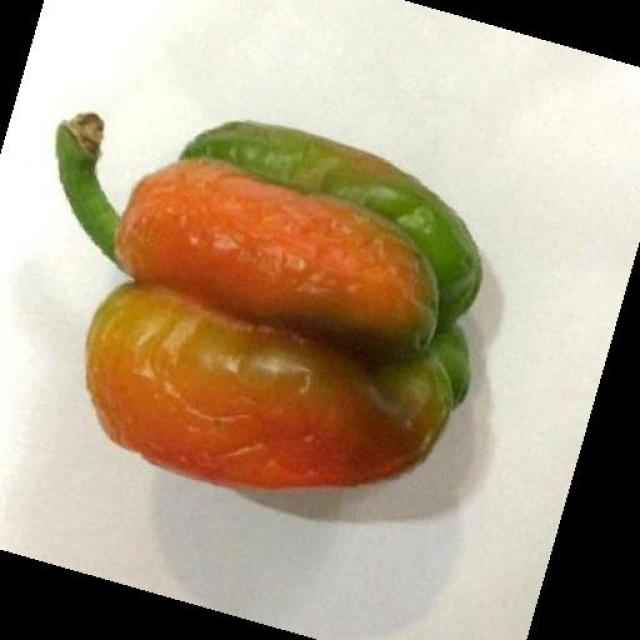Stale_Capsicum: (53, 122, 484, 514)
